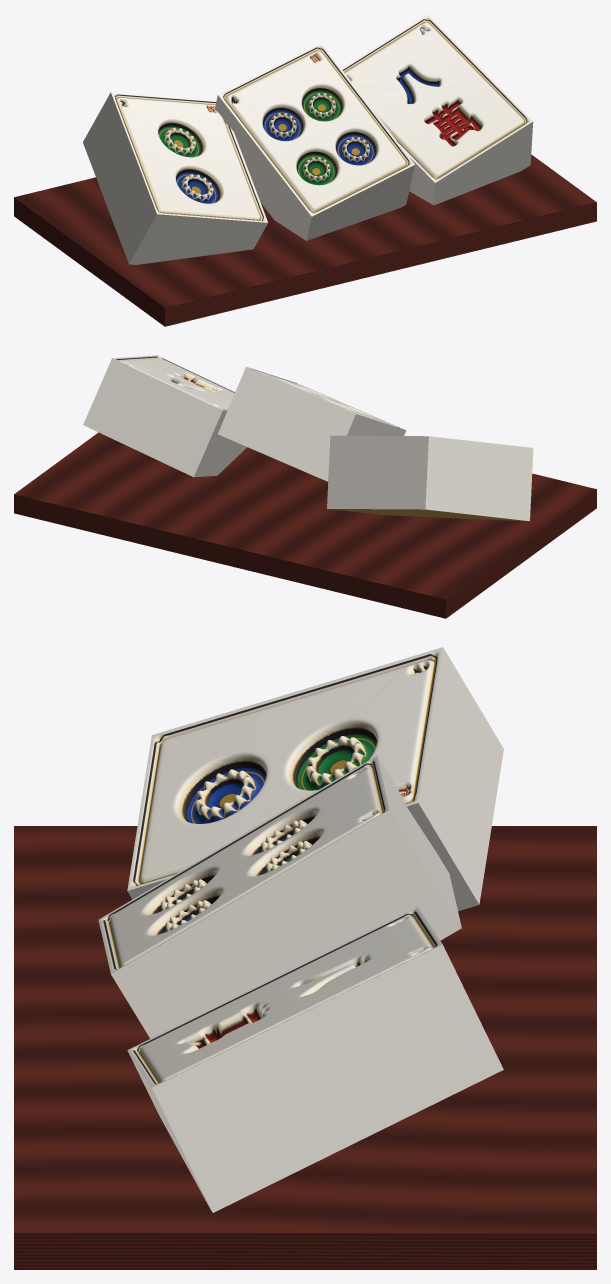
The model's file is tile_carved_intaglio_showcase.glb.
3 renders of one model, top to bottom at view 1: azimuth 30°, elevation 25°; view 2: azimuth 150°, elevation 25°; view 3: azimuth 270°, elevation 25°, orthographic. The views are drawn at different scales.
Parts seen in each view (by area): view 1: Carved_Showcase_Plinth, Carved_Tile_dots_4, Carved_Tile_dots_2, Carved_Tile_char_8; view 2: Carved_Showcase_Plinth, Carved_Tile_dots_2, Carved_Tile_char_8, Carved_Tile_dots_4; view 3: Carved_Showcase_Plinth, Carved_Tile_char_8, Carved_Tile_dots_2, Carved_Tile_dots_4.
Part boxes in pixels (bbox=[...]): Carved_Showcase_Plinth: bbox=[14, 154, 596, 326]; Carved_Tile_dots_4: bbox=[215, 43, 414, 240]; Carved_Tile_dots_2: bbox=[83, 92, 267, 264]; Carved_Tile_char_8: bbox=[341, 14, 533, 205]; Carved_Showcase_Plinth: bbox=[14, 432, 596, 618]; Carved_Tile_dots_2: bbox=[327, 435, 533, 521]; Carved_Tile_char_8: bbox=[83, 355, 247, 477]; Carved_Tile_dots_4: bbox=[218, 366, 406, 481]; Carved_Showcase_Plinth: bbox=[14, 826, 596, 1269]; Carved_Tile_char_8: bbox=[127, 907, 503, 1212]; Carved_Tile_dots_2: bbox=[127, 647, 503, 911]; Carved_Tile_dots_4: bbox=[98, 755, 461, 1038].
Bounding box in the file's own units: 3.8 × 1.35 × 2.3.
Materials: 10 (10 with a texture image).
